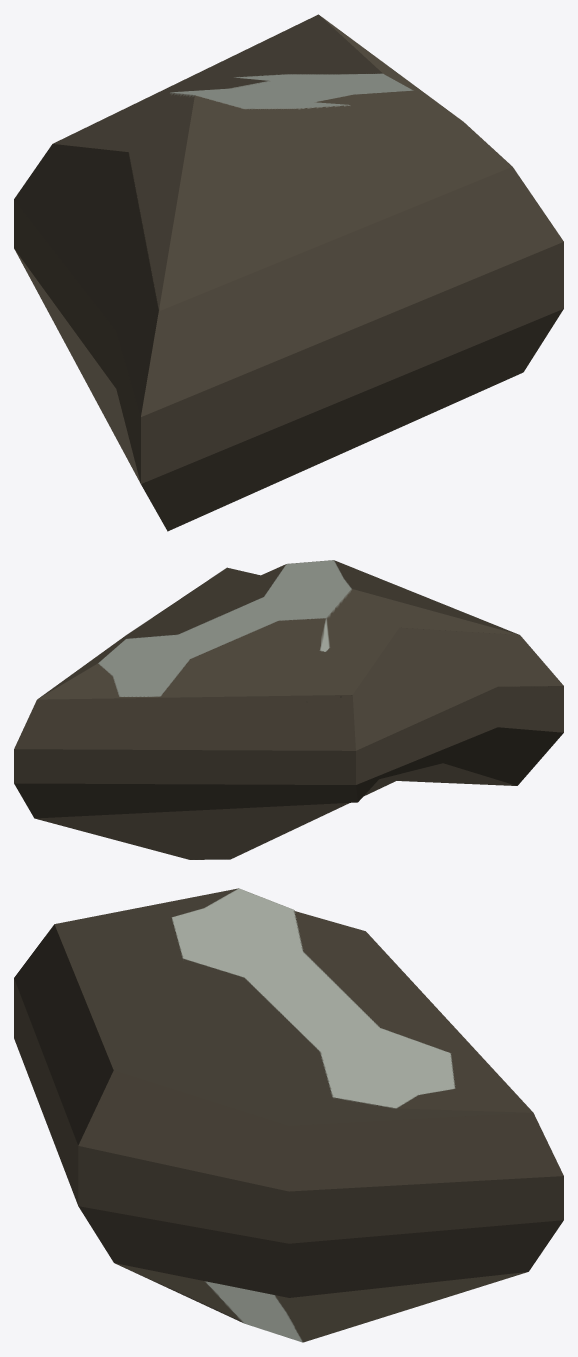
Rendered from fossil3.glb.
The picture shows the model from 3 angles, top to bottom: view 1: azimuth 30°, elevation 25°; view 2: azimuth 150°, elevation 25°; view 3: azimuth 270°, elevation 25°; orthographic projection. The views are drawn at different scales.
Parts seen in each view (by area): view 1: Plane; view 2: Plane; view 3: Plane.
Part boxes in pixels (<box>): Plane: <box>14,14,563,531</box>; Plane: <box>14,560,563,859</box>; Plane: <box>14,888,563,1342</box>.
Size of the model in its own units: 2.01 by 1.48 by 2.11.
1 material, 1 textured.
